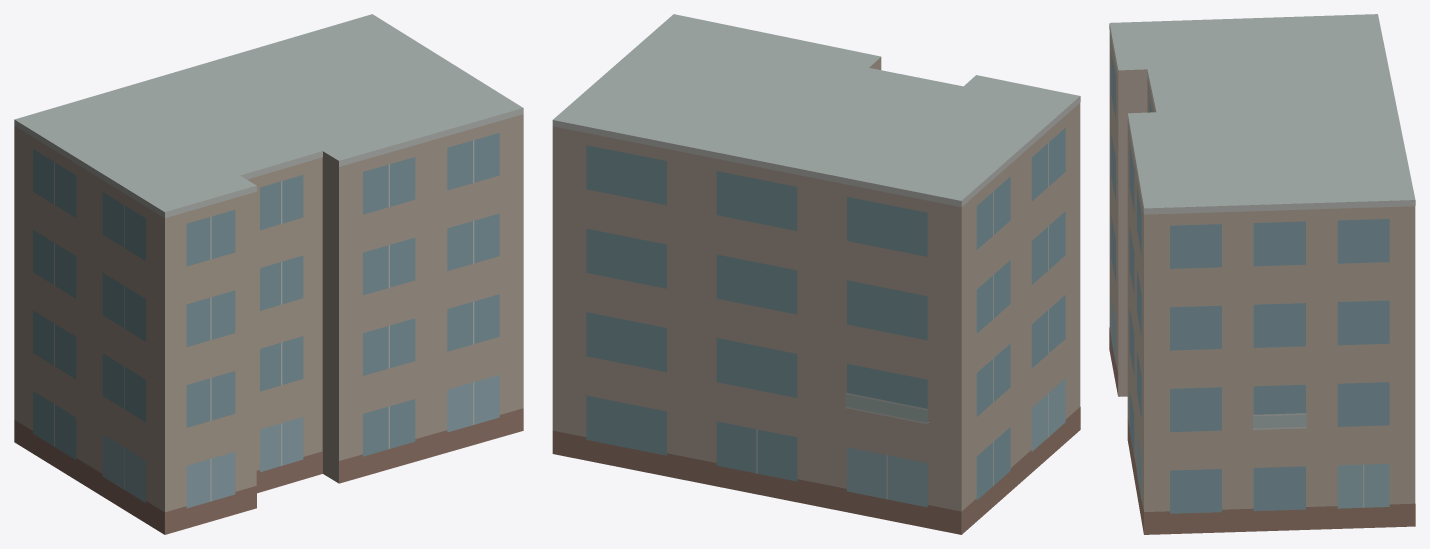
File: survey-upis-32756424.glb
The picture shows the model from 3 angles, left to right: view 1: azimuth 30°, elevation 25°; view 2: azimuth 150°, elevation 25°; view 3: azimuth 270°, elevation 25°; orthographic projection. The views are drawn at different scales.
Parts seen in each view (by area): view 1: survey-upis-32756424.tmp; view 2: survey-upis-32756424.tmp; view 3: survey-upis-32756424.tmp.
Boxes of the visible parts, box(x1,y1,x2,y2) form: survey-upis-32756424.tmp: box(14, 14, 523, 534); survey-upis-32756424.tmp: box(552, 14, 1080, 534); survey-upis-32756424.tmp: box(1109, 14, 1415, 534).
Size of the model in its own units: 16.48 by 12.9 by 10.97.
